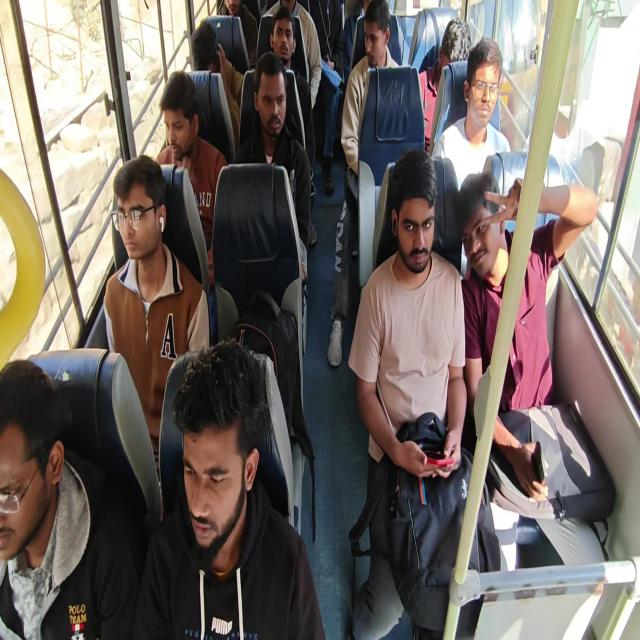person: (137, 314, 314, 640), (0, 355, 110, 556), (90, 144, 188, 328), (445, 192, 529, 324), (159, 60, 216, 174), (361, 2, 417, 114), (248, 48, 297, 146), (457, 72, 503, 162), (439, 19, 477, 104), (178, 6, 226, 70), (396, 162, 430, 252), (272, 9, 304, 78)
